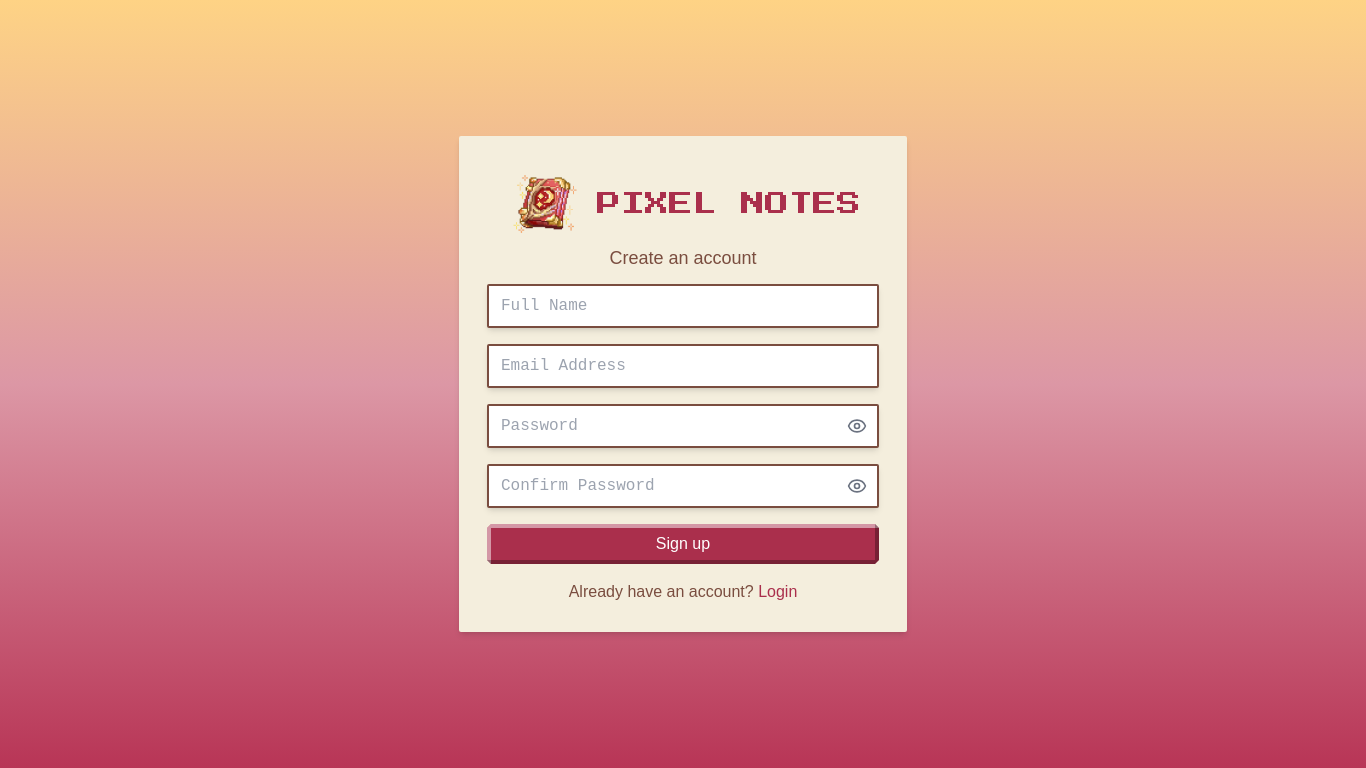
Test case: SignupForm › validates form and shows errors on empty submission
Click the button "Sign up".
click(683, 544)  # box [487, 524, 879, 564]
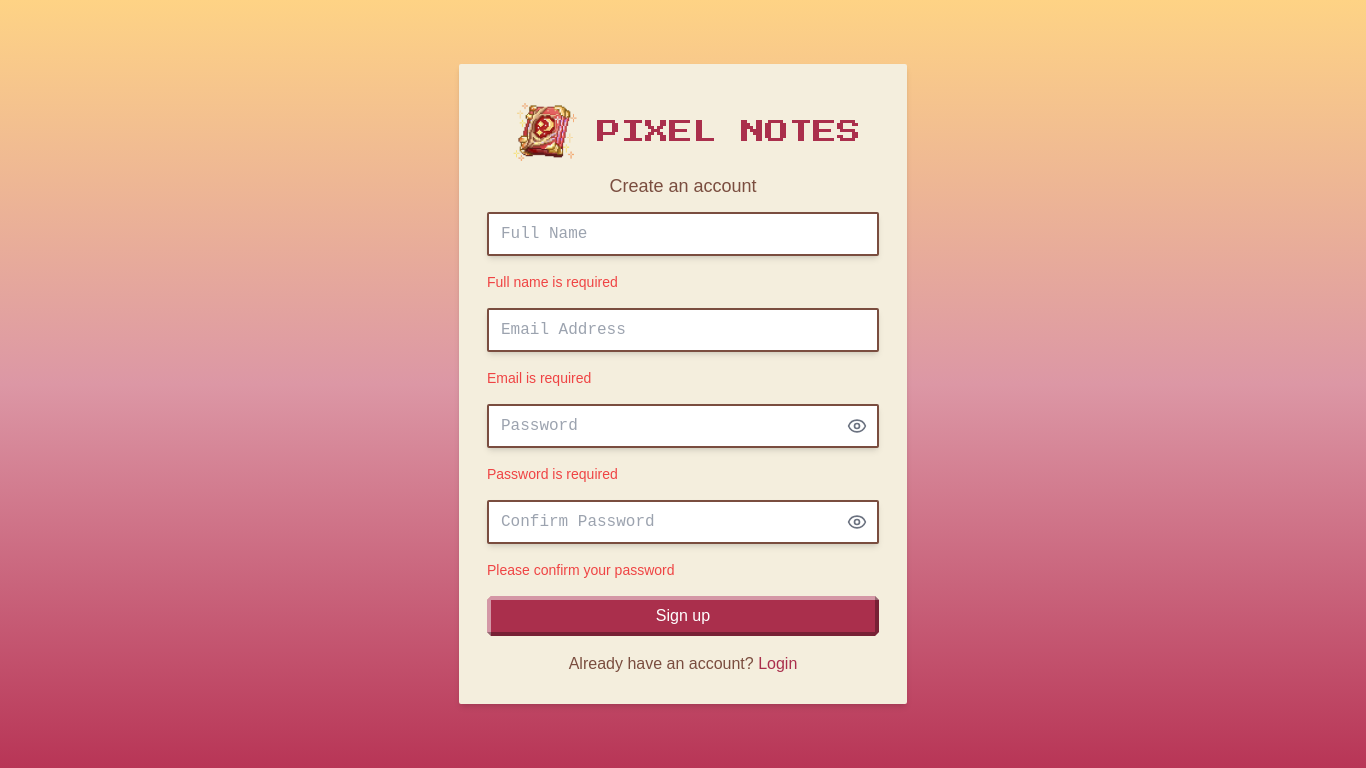
Now the text "Full name is required" is shown, box [487, 274, 618, 290]
Now the text "Email is required" is shown, box [487, 370, 591, 386]
Now the text "Password is required" is shown, box [487, 466, 618, 482]
